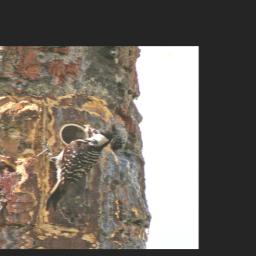Woodpecker: (30, 123, 115, 213)
